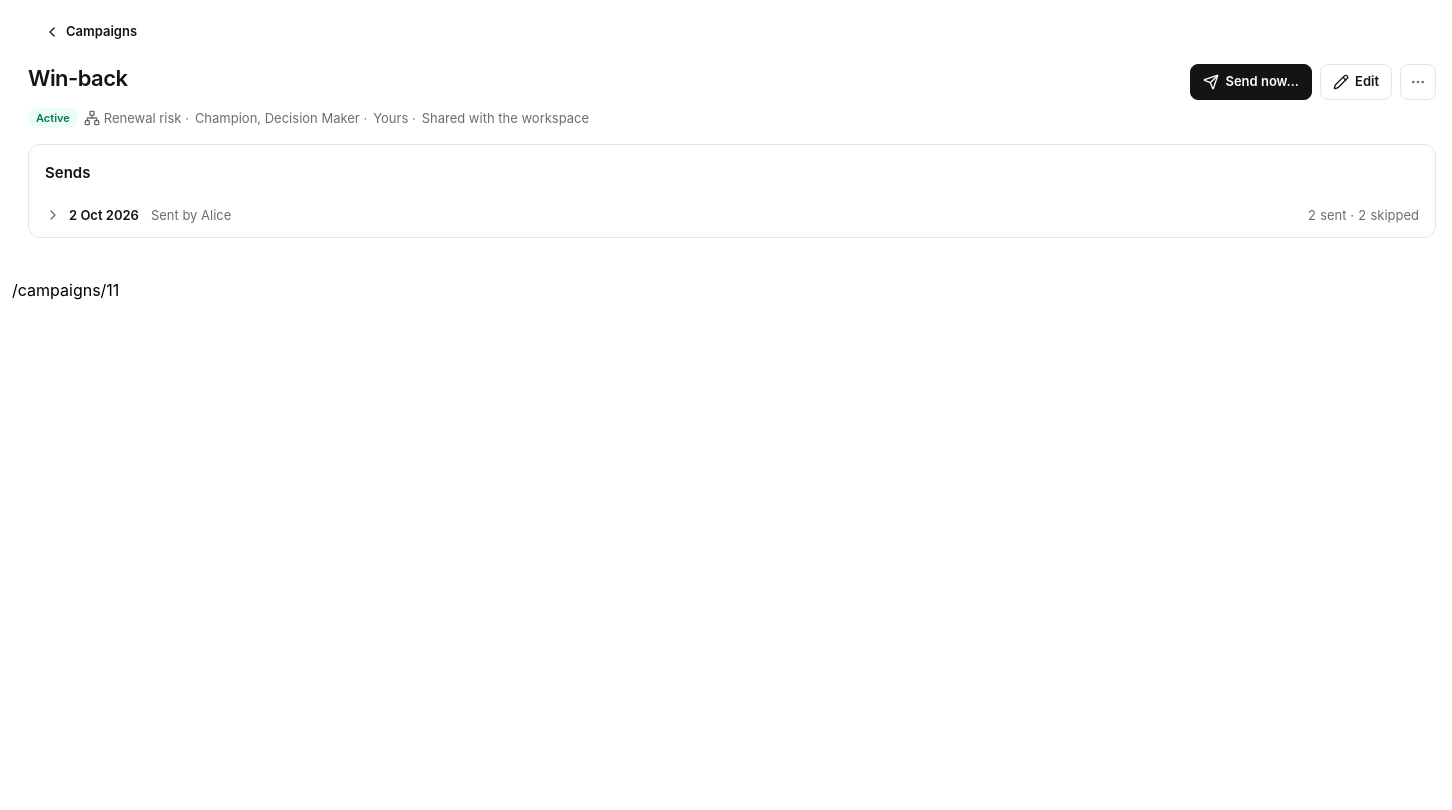
Scenario: a campaign's sends (spec §2.3) › keeps the open send in the URL
Step 1. Click the button "2 Oct 2026" → (92, 215), box [45,197,139,233]
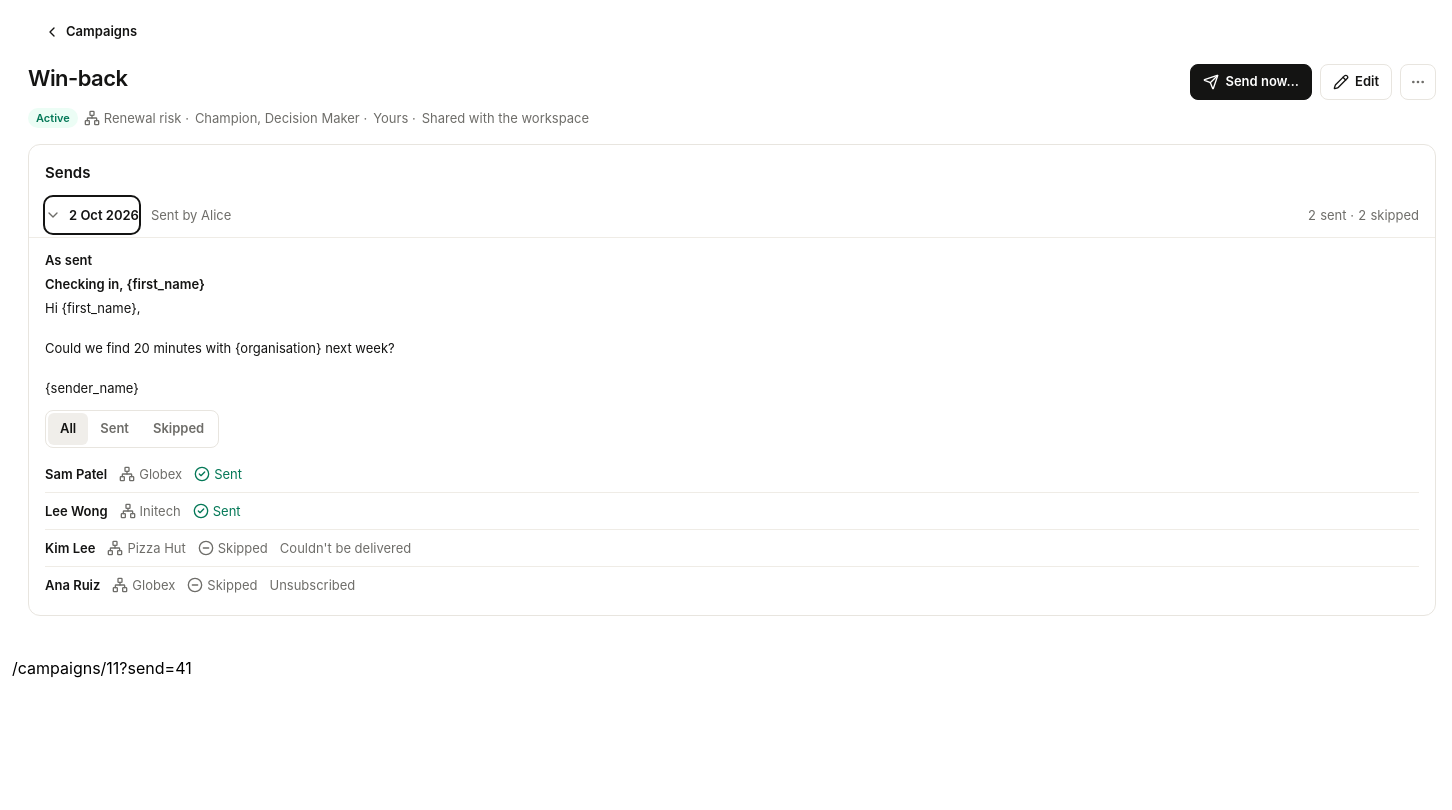
Result: the text with test id "where" reads "/campaigns/11?send=41" at [12,658,192,678]
Step 2. Click the button "2 Oct 2026" → (92, 215), box [45,197,139,233]
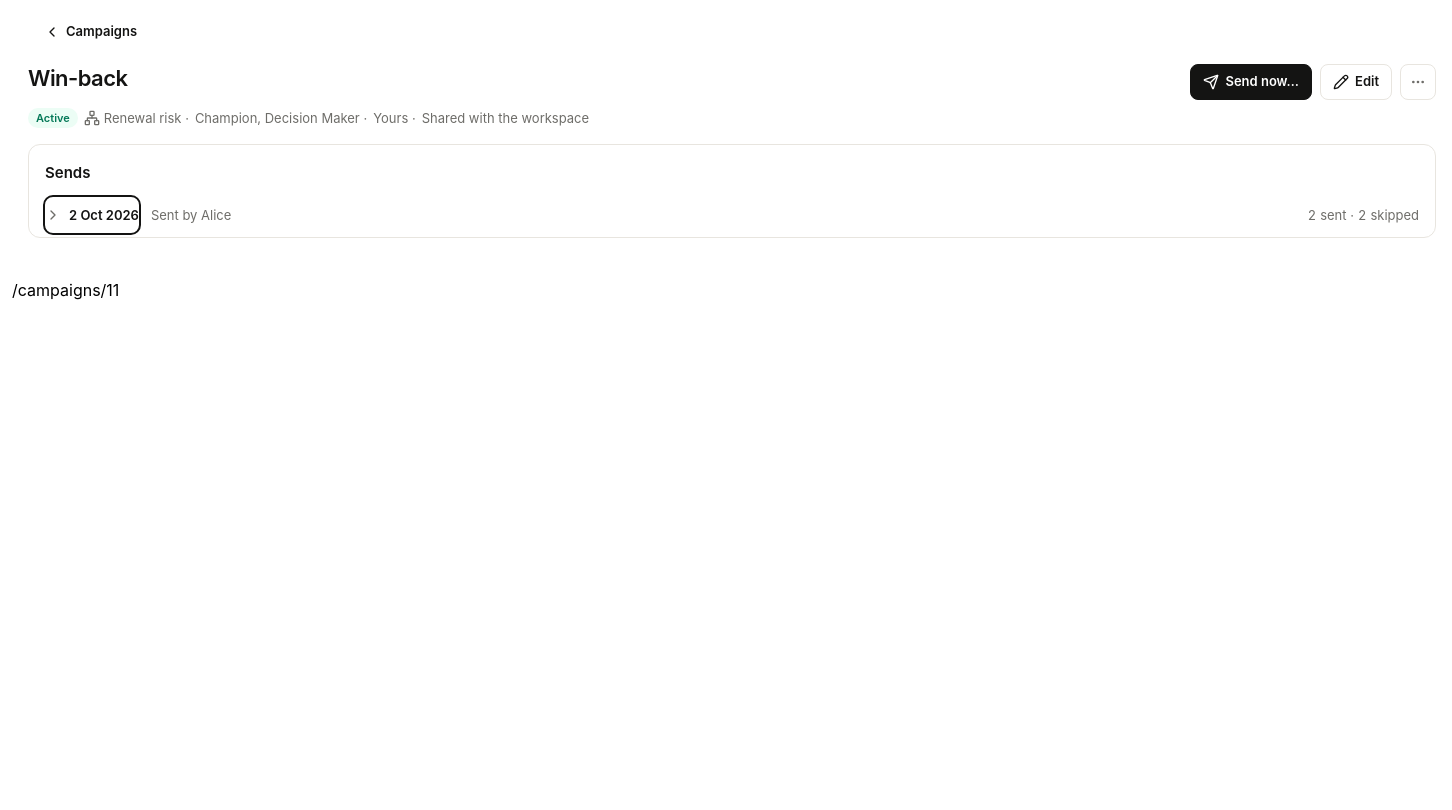
Result: the text with test id "where" reads "/campaigns/11" at [12,280,119,300]
